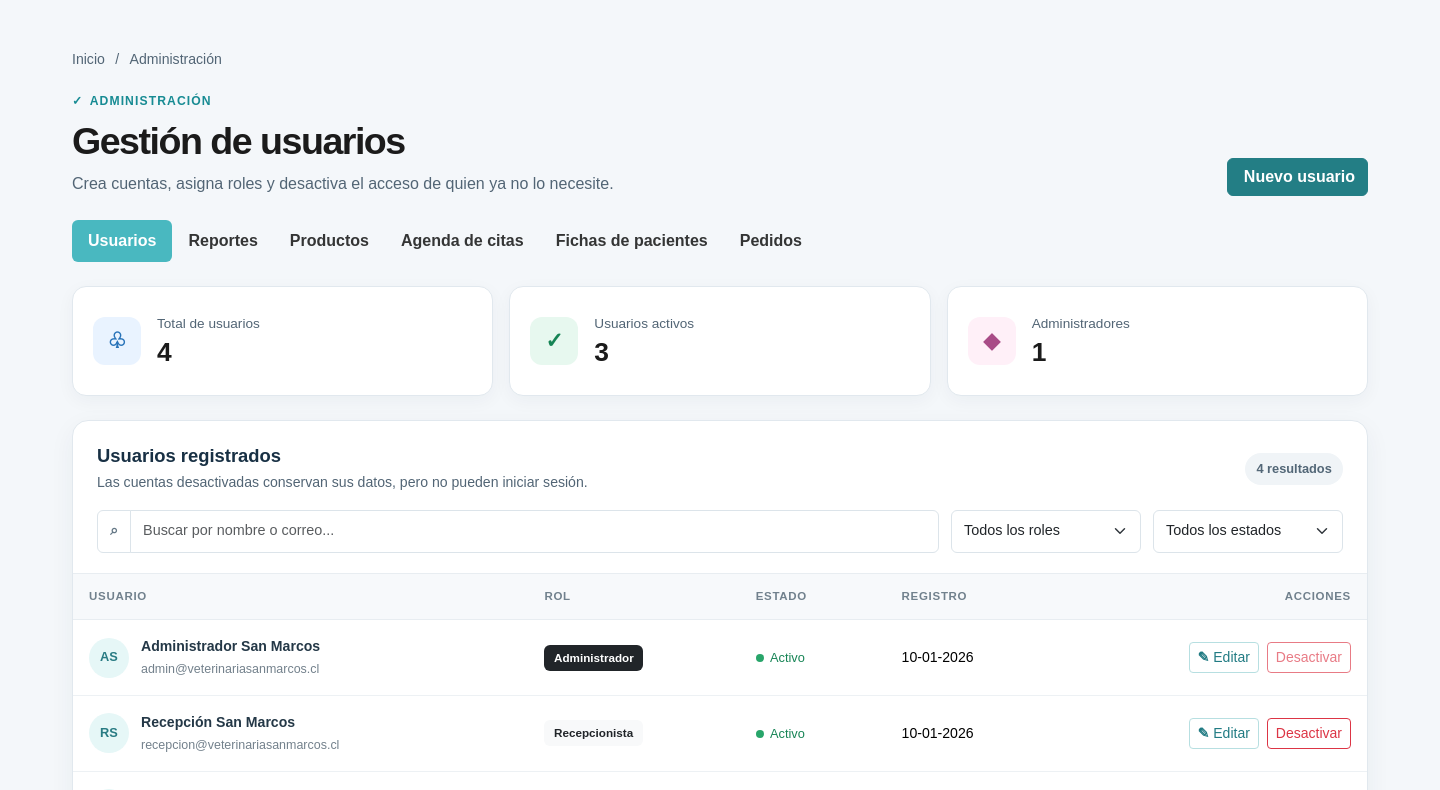
Test: Usuarios (administración) › avisa cuando ningún usuario coincide con los filtros
In the field named "Buscar usuarios": {"x": 535, "y": 531} [130,510,939,553], type "zzz"
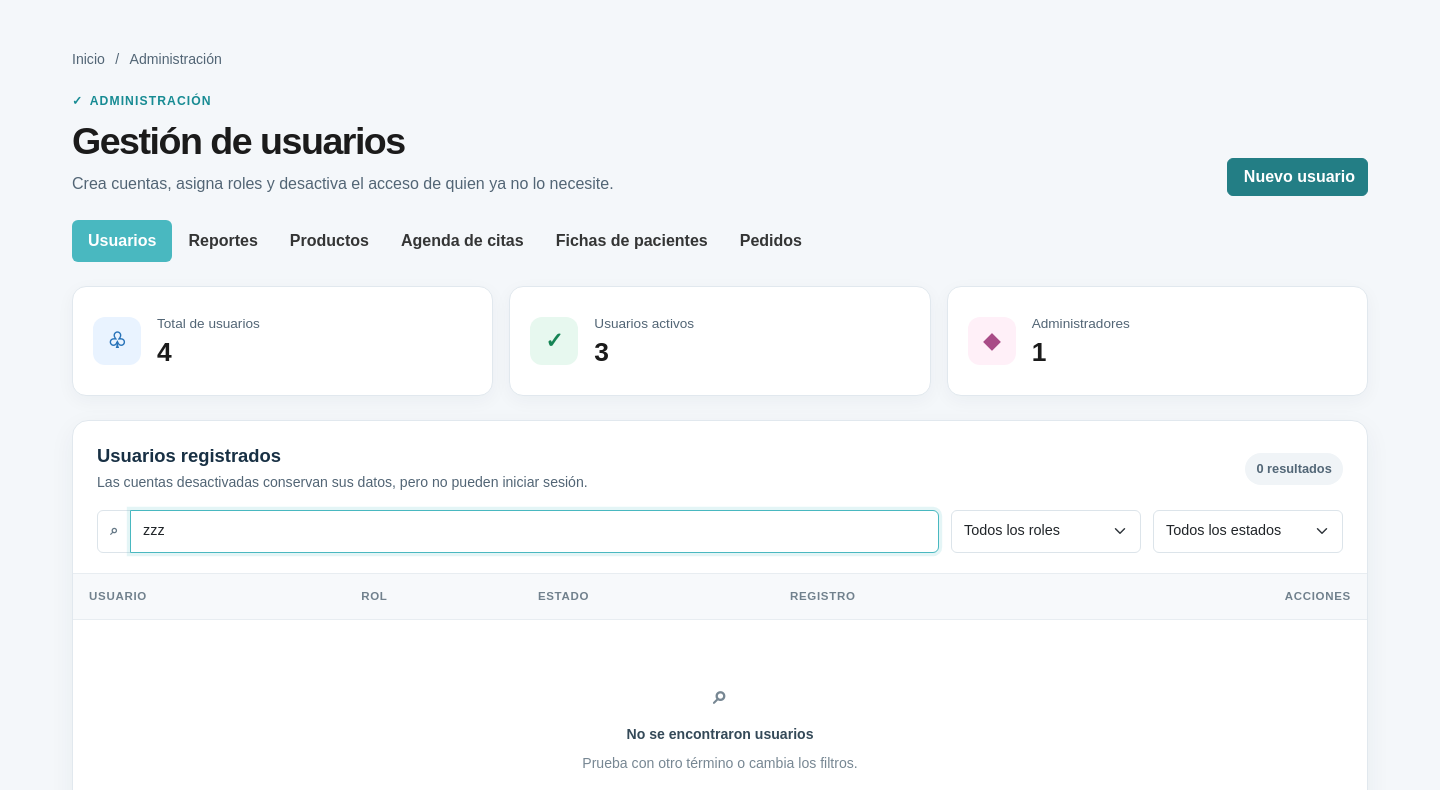
Expected: the text "No se encontraron usuarios" is shown, [626,723,814,745]
